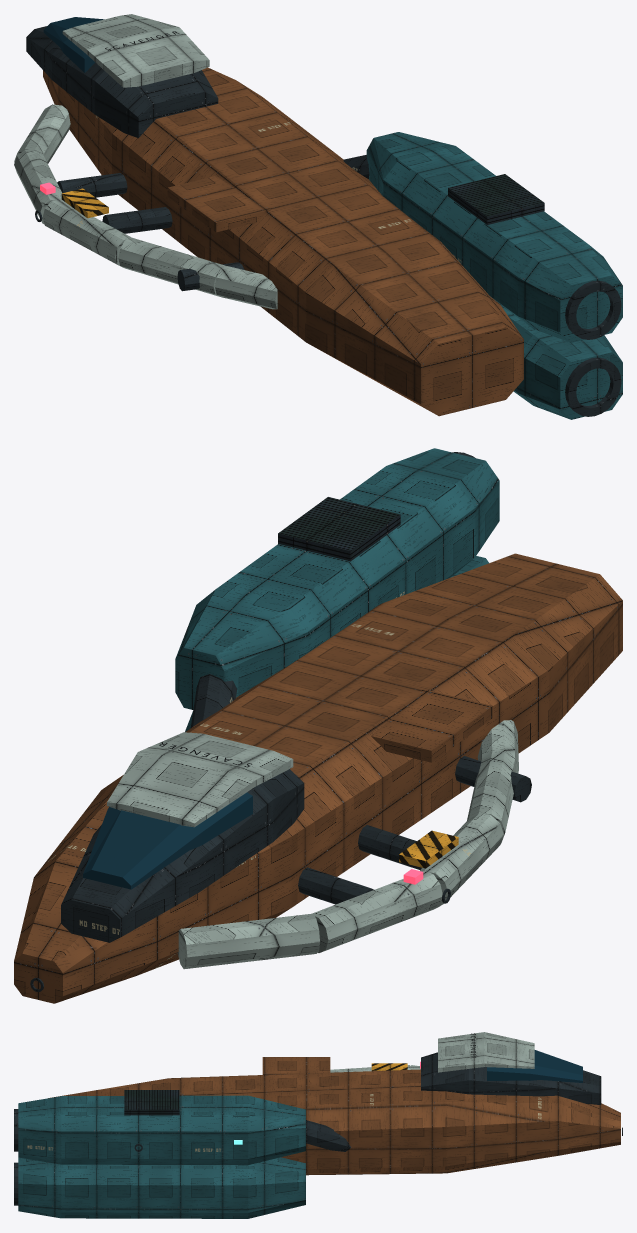
The model's file is ship_scavenger.glb.
3 renders of one model, top to bottom at view 1: azimuth 30°, elevation 25°; view 2: azimuth 150°, elevation 25°; view 3: azimuth 270°, elevation 25°, orthographic. The views are drawn at different scales.
Visible parts, largest first — view 1: Bronze, Teal, Cream, Frame, Thermal, Glass, Safety; view 2: Bronze, Teal, Cream, Frame, Glass, Thermal, Safety; view 3: Teal, Bronze, Frame, Cream, Glass, Thermal, Safety.
Boxes of the visible parts, box(x1,y1,x2,y2) form: Bronze: box(43, 67, 523, 416); Teal: box(366, 132, 622, 419); Cream: box(14, 14, 277, 309); Frame: box(26, 26, 621, 416); Thermal: box(448, 174, 544, 224); Glass: box(43, 17, 104, 72); Safety: box(61, 188, 108, 218); Bronze: box(14, 553, 622, 1003); Teal: box(175, 448, 499, 731); Cream: box(107, 720, 518, 969); Frame: box(30, 452, 531, 991); Glass: box(83, 792, 252, 889); Thermal: box(278, 497, 400, 561); Safety: box(399, 830, 458, 868); Teal: box(18, 1095, 305, 1218); Bronze: box(48, 1057, 620, 1175); Frame: box(14, 1052, 622, 1205); Cream: box(330, 1032, 534, 1072); Glass: box(487, 1050, 582, 1082); Thermal: box(124, 1090, 179, 1115); Safety: box(371, 1063, 407, 1071).
Size of the model in its own units: 9.6 by 5.1 by 22.69.
10 materials, 8 textured.
